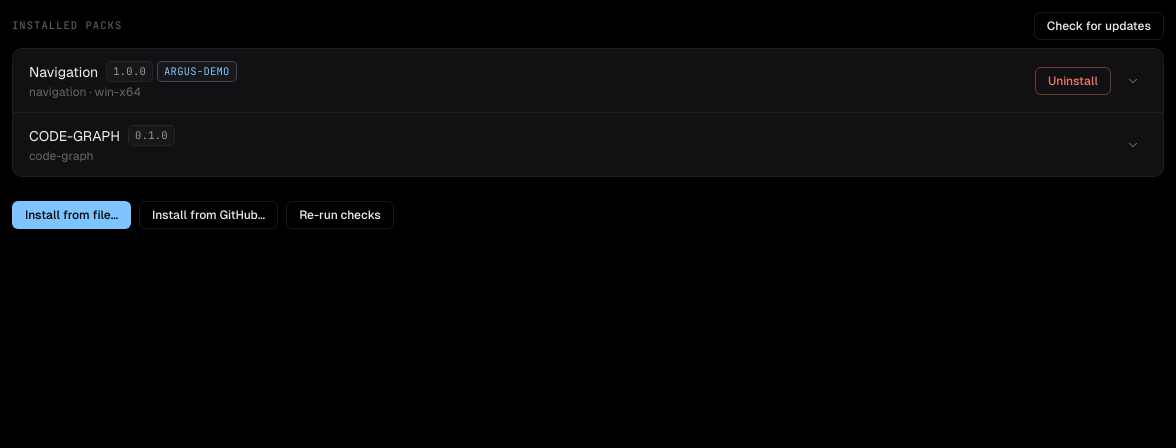
it: PacksSettings › groups each tool under its declaring pack only
What coordinates should you click on to do the following:
click the button named "Expand tools · navigation"
I would click on:
 (1133, 80)
Its box is [1119, 66, 1147, 94].
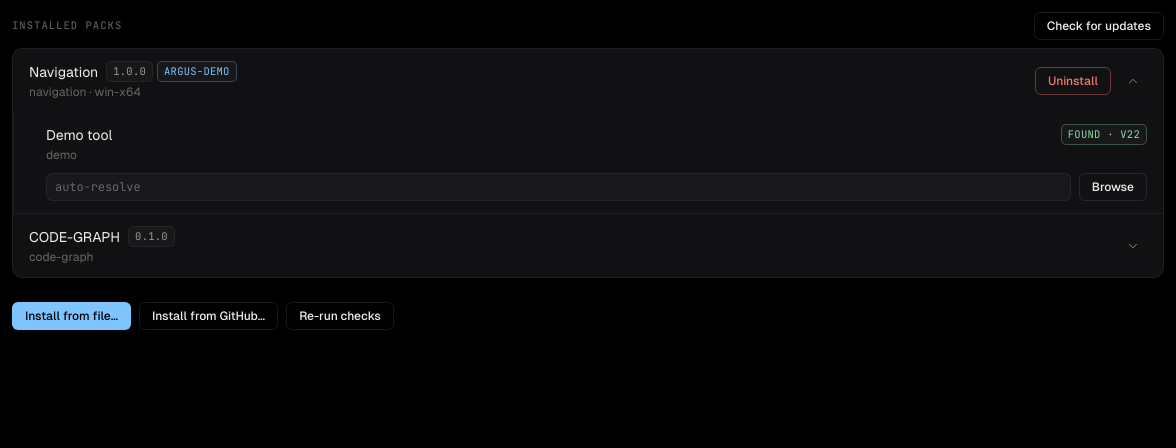
What coordinates should you click on to do the following:
click the button named "Expand tools · code-graph"
I would click on:
 (1133, 246)
Its box is [1119, 232, 1147, 260].
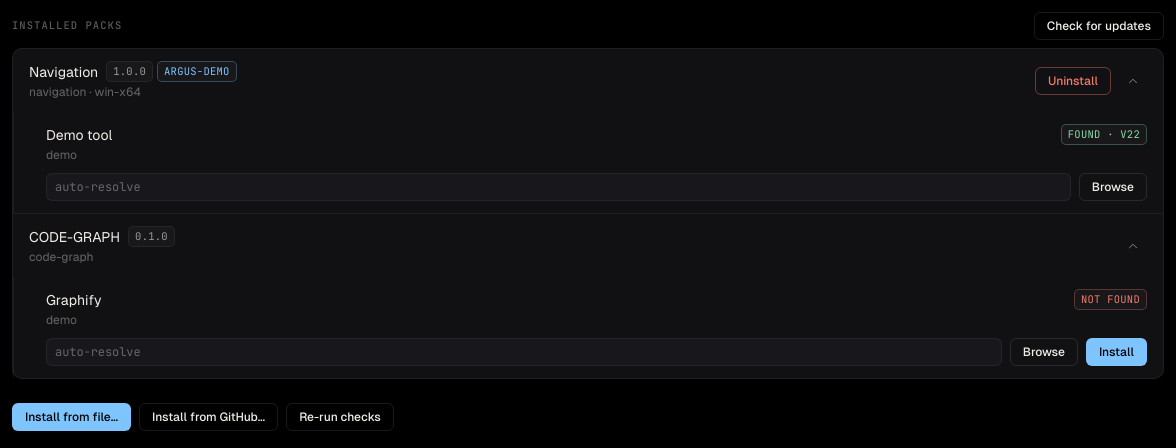
Result: the text "Demo tool" is shown at [46, 127, 112, 143]
Result: the element showing "Demo tool found · v22 demo Browse" is shown at [13, 112, 1163, 213]
Result: the element showing "Graphify not found demo Browse Install" is shown at [13, 277, 1163, 378]
